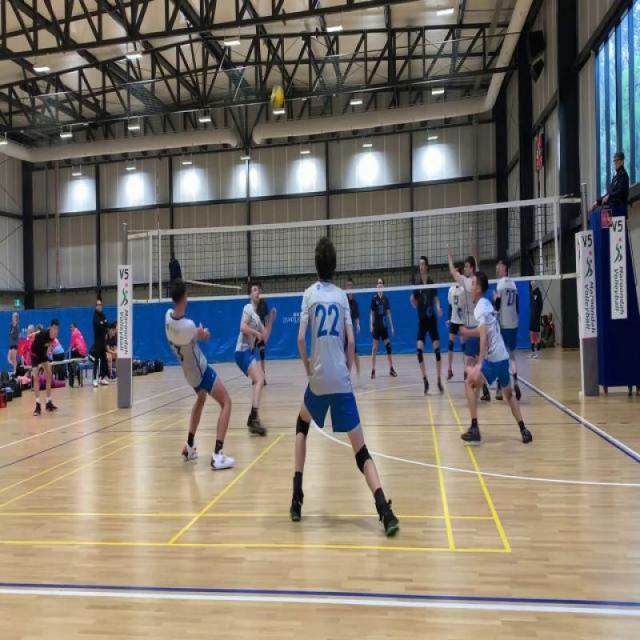volleyball: (270, 84, 284, 110)
